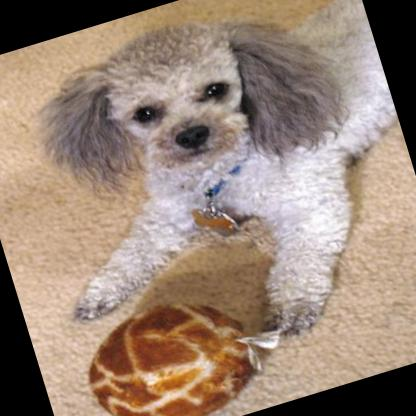toy_poodle: (0, 0, 416, 396)
